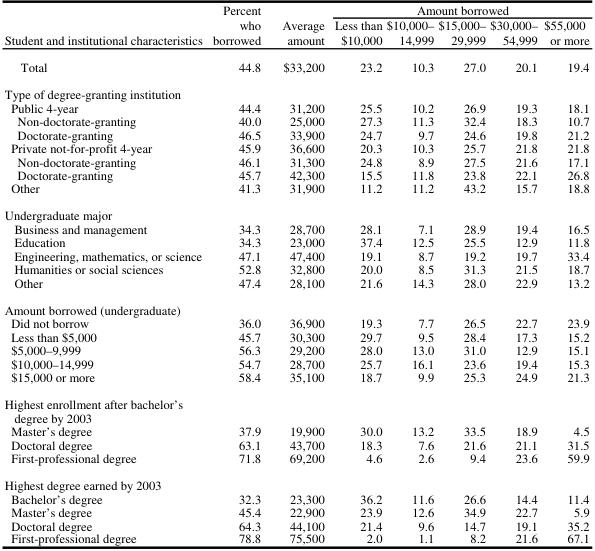table: (3, 3, 588, 544)
table column: (3, 3, 206, 544), (206, 3, 270, 544), (270, 3, 328, 544), (328, 3, 383, 544), (487, 3, 540, 544), (383, 3, 435, 544), (435, 3, 487, 544), (540, 3, 588, 544)
table column header: (3, 3, 588, 54)
table projected row header: (3, 391, 588, 425), (3, 296, 588, 317), (3, 81, 588, 101), (3, 202, 588, 222), (3, 472, 588, 492)
table row: (3, 17, 588, 54), (3, 391, 588, 425), (3, 54, 588, 81), (3, 296, 588, 317), (3, 81, 588, 101), (3, 182, 588, 202), (3, 202, 588, 222), (3, 276, 588, 296), (3, 371, 588, 391), (3, 452, 588, 472), (3, 472, 588, 492), (3, 3, 588, 17), (3, 114, 588, 128), (3, 141, 588, 155), (3, 168, 588, 182), (3, 222, 588, 236), (3, 249, 588, 263), (3, 330, 588, 344), (3, 357, 588, 371), (3, 438, 588, 452), (3, 505, 588, 519), (3, 101, 588, 114), (3, 128, 588, 141), (3, 155, 588, 168), (3, 236, 588, 249), (3, 263, 588, 276), (3, 317, 588, 330), (3, 344, 588, 357), (3, 425, 588, 438), (3, 492, 588, 505), (3, 519, 588, 532), (3, 532, 588, 544)
table spanning cell: (3, 3, 206, 54), (328, 3, 588, 17), (206, 3, 270, 54), (270, 3, 328, 54)
